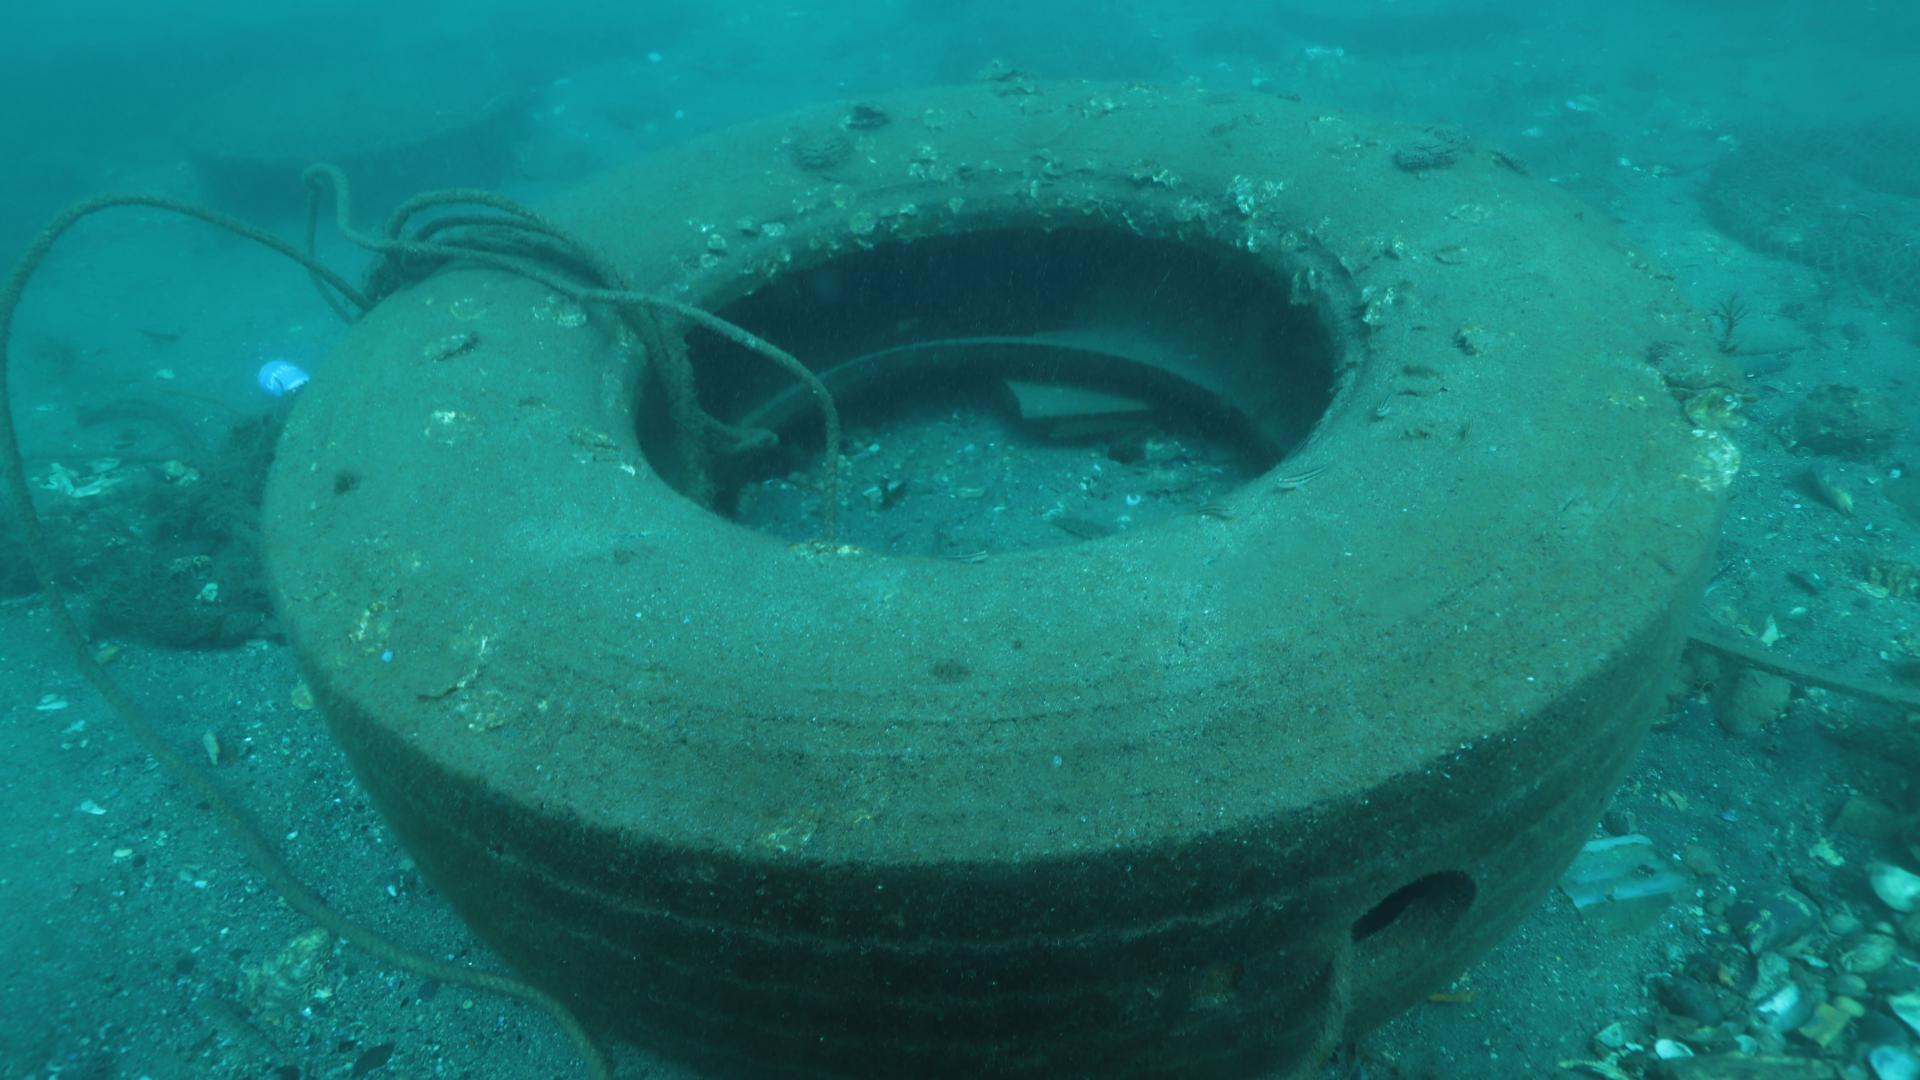bundle of ropes: (0, 157, 843, 1080)
tire: (255, 74, 1726, 1080)
